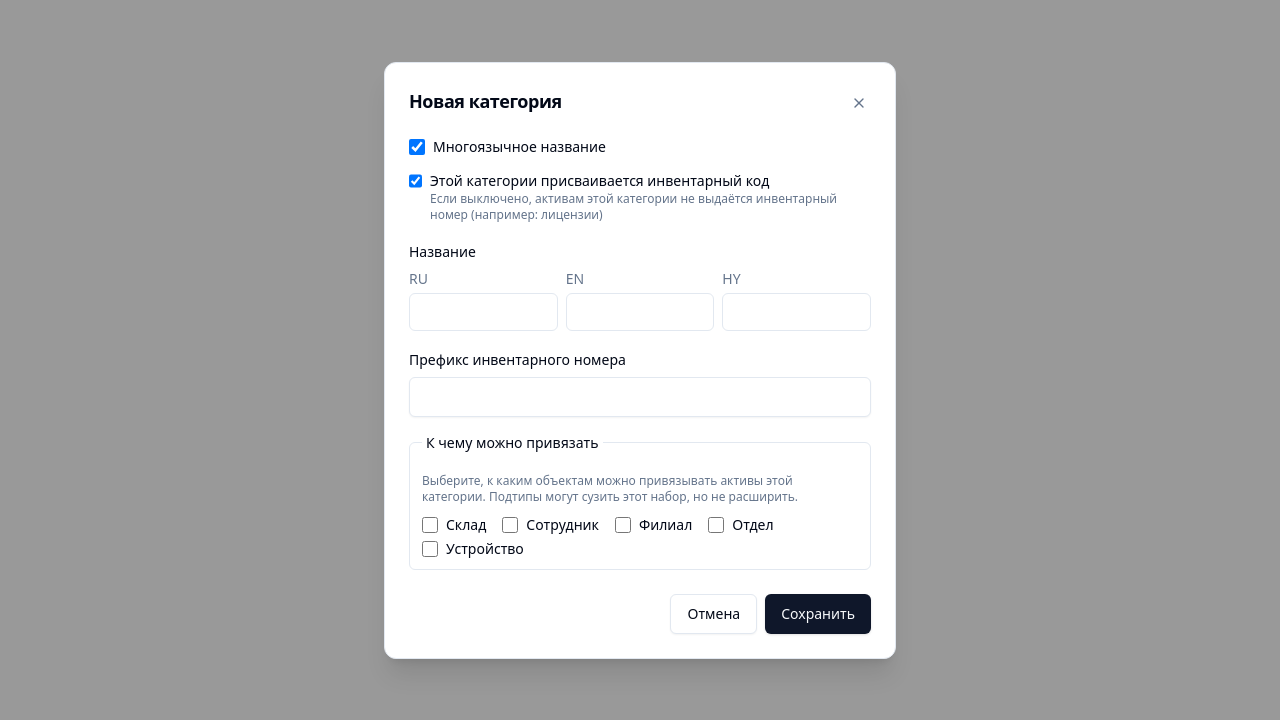
Test: CategoryFormDialog › blocks submit when no attachableTo kind is picked
Type "Тест" into the field labelled "ru" at (483, 312), box [409,292,558,330]
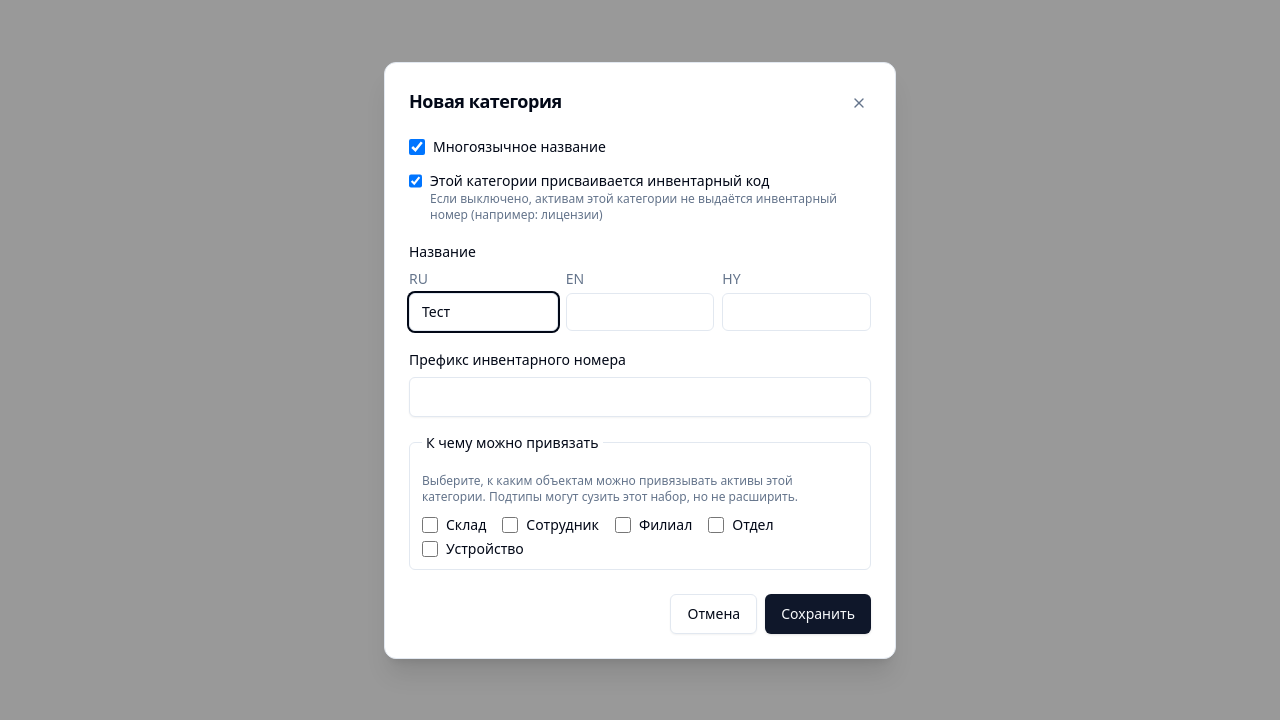
Type "Test" into the field labelled "en" at (640, 312), box [566,292,714,330]
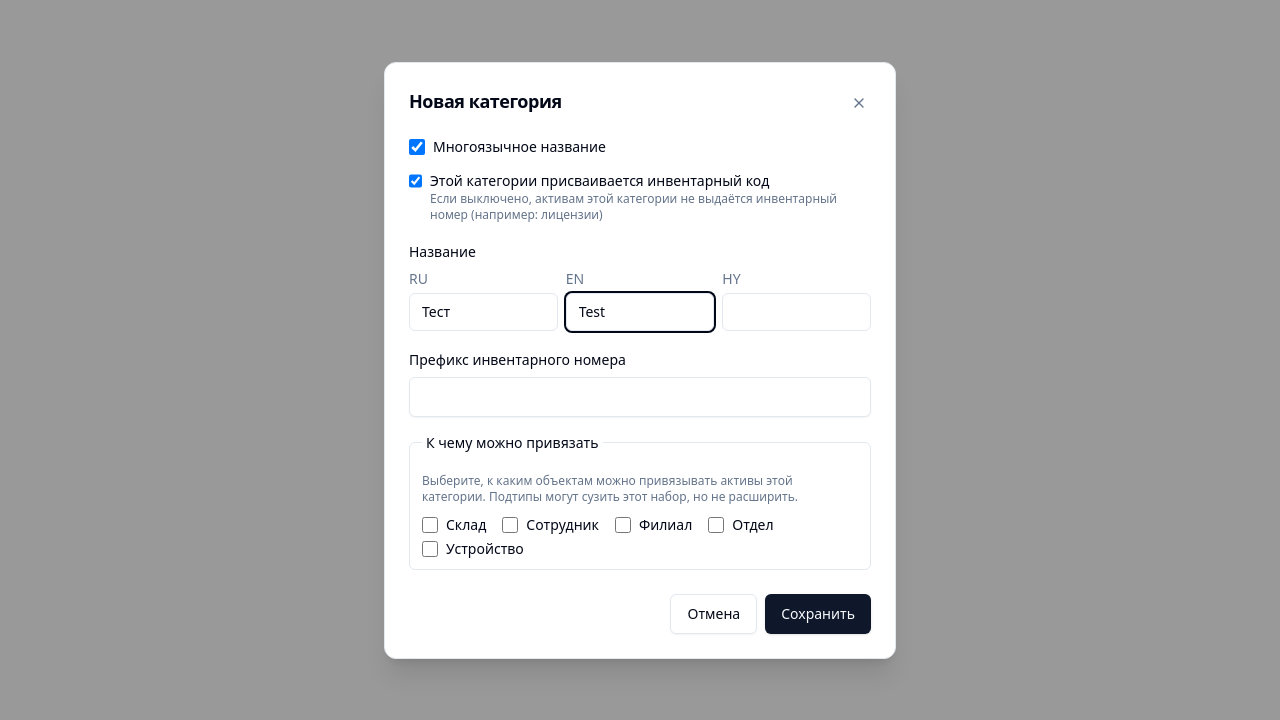
Type "Թեստ" into the field labelled "hy" at (797, 312), box [722,292,871,330]
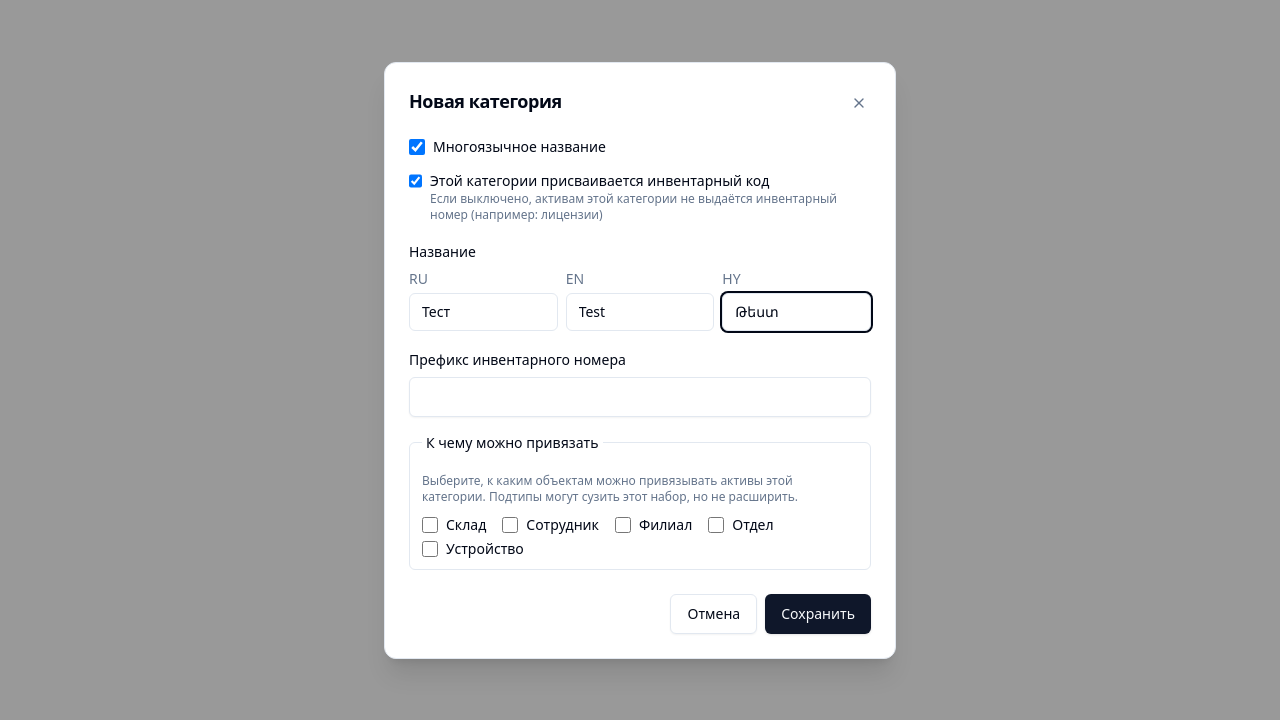
Type "700" into the field labelled "Префикс инвентарного номера" at (640, 396), box [409,376,871,416]
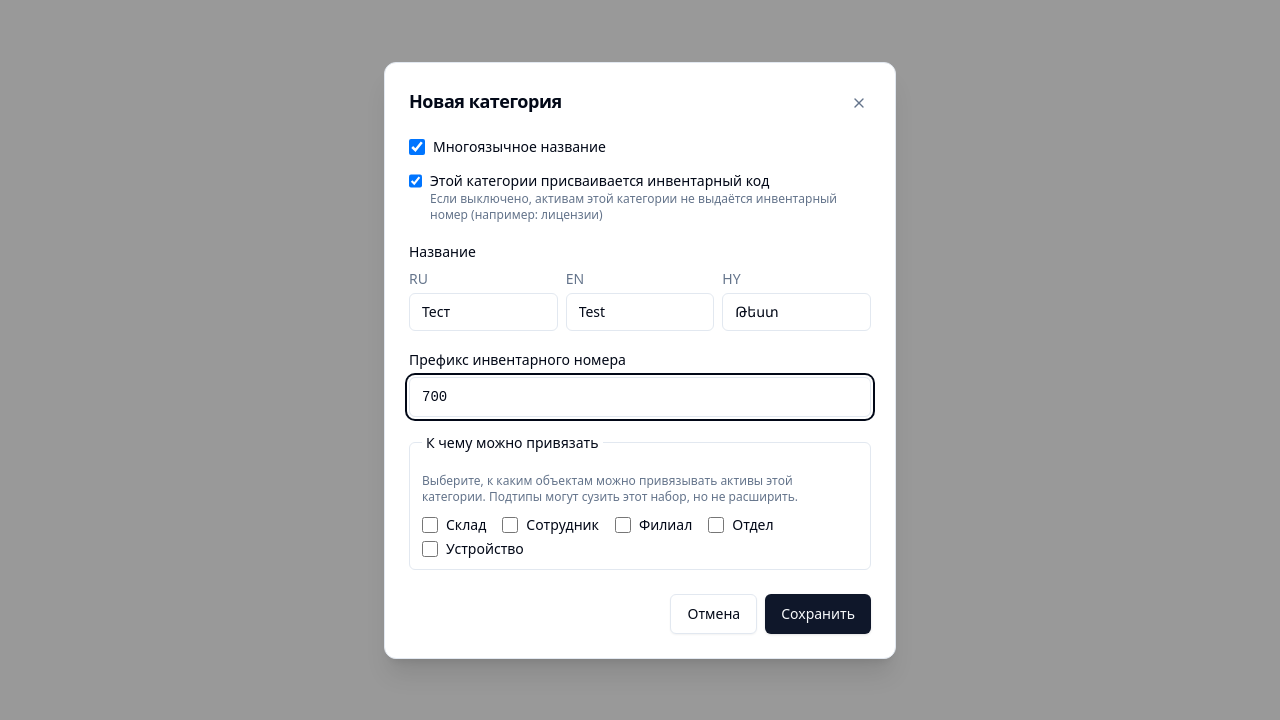
Click the button "Сохранить" at (818, 614), box [765,594,871,634]
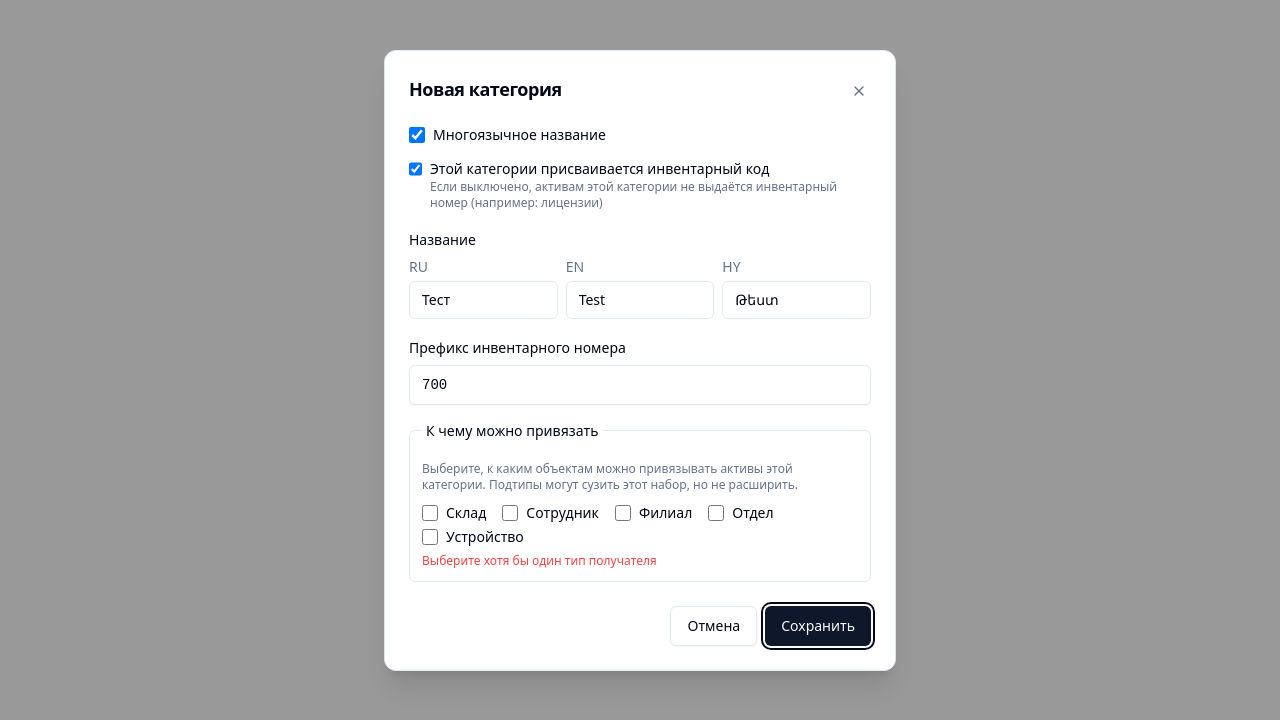
Check: the text "Выберите хотя бы один тип получателя" is shown, box [422,552,657,568]
